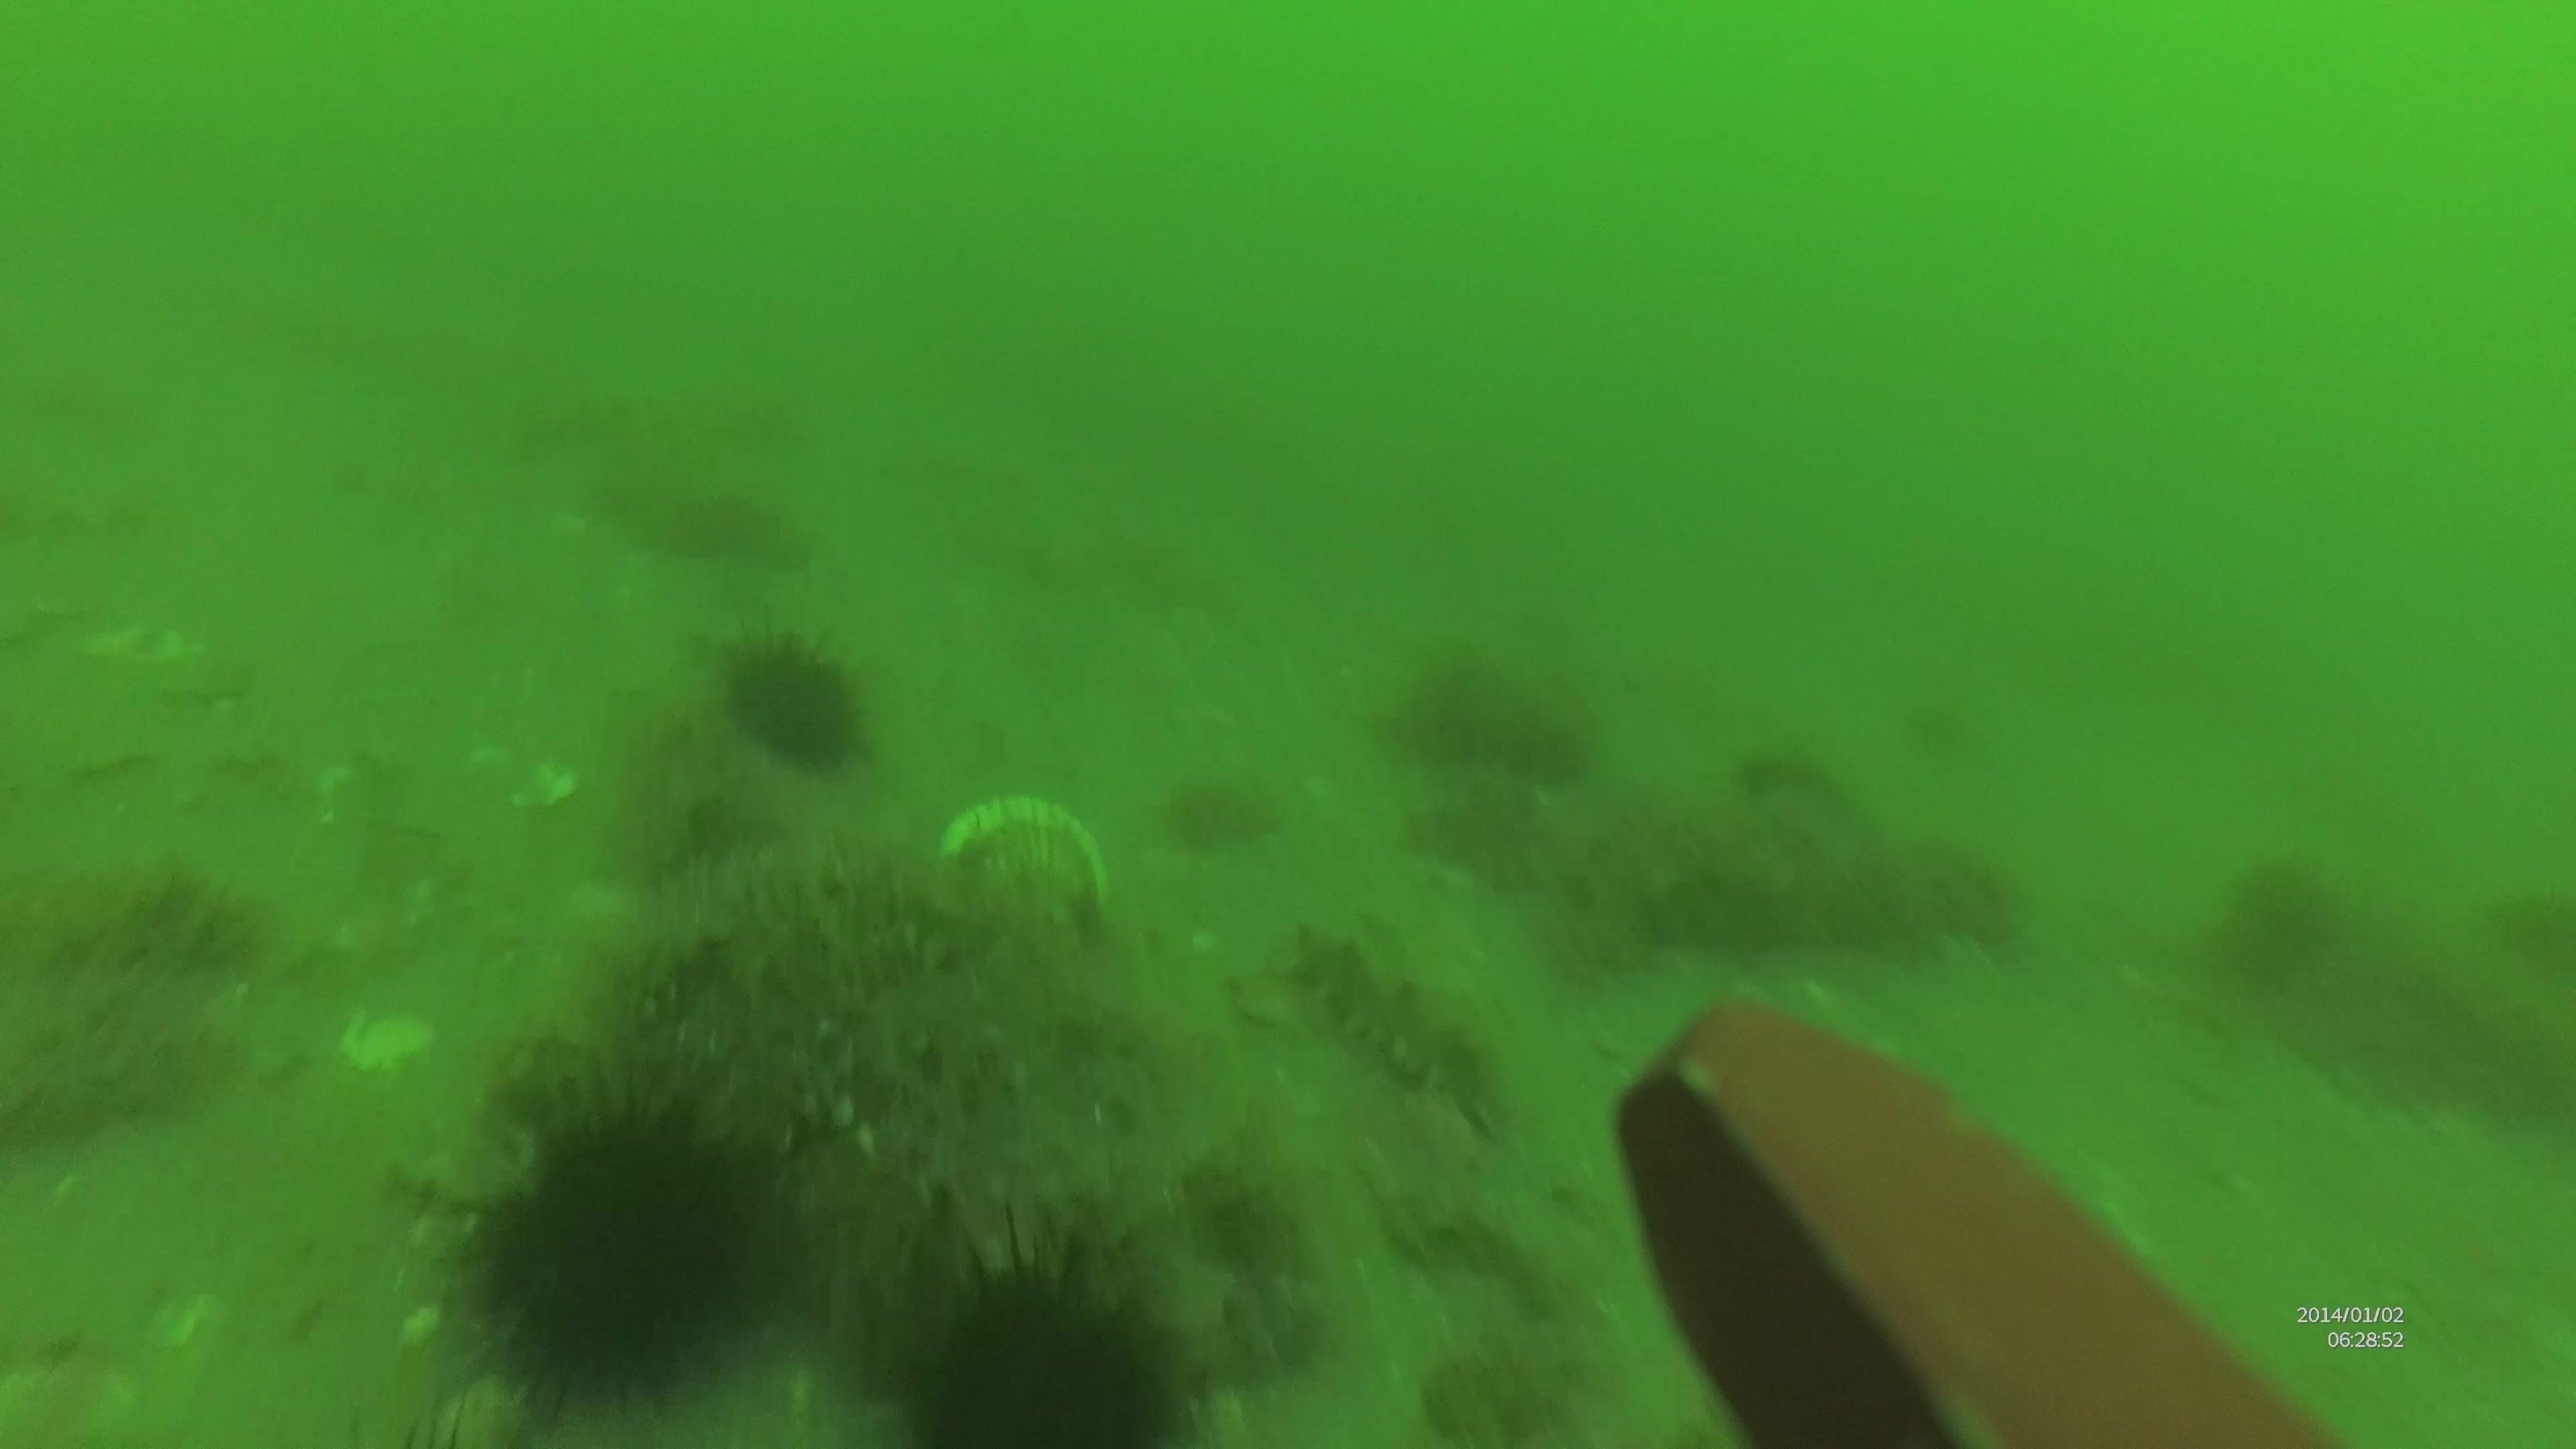echinus: (432, 1047, 807, 1424), (883, 1205, 1207, 1444), (711, 623, 874, 777), (2206, 853, 2350, 1001)
holothurian: (1582, 821, 2020, 971), (1279, 916, 1507, 1138)
scallop: (931, 794, 1111, 959)
